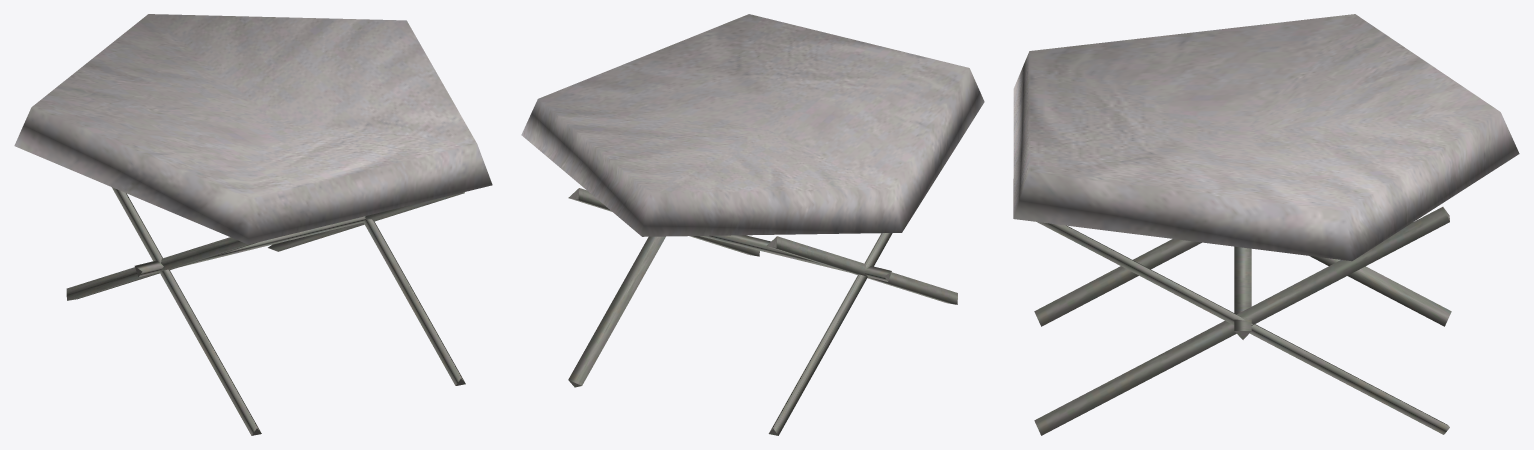
The model's file is eqp_camping_stool_short_l2.fbx.
The picture shows the model from 3 angles, left to right: view 1: azimuth 30°, elevation 25°; view 2: azimuth 150°, elevation 25°; view 3: azimuth 270°, elevation 25°; orthographic projection. The views are drawn at different scales.
Parts seen in each view (by area): view 1: mesh_node; view 2: mesh_node; view 3: mesh_node.
Part boxes in pixels (x1,y1,x2,y2): mesh_node: [14, 14, 492, 435]; mesh_node: [521, 14, 984, 435]; mesh_node: [1013, 14, 1519, 435].
Size of the model in its own units: 0.5182 by 0.3041 by 0.5215.
Materials: 1 (1 with a texture image).
